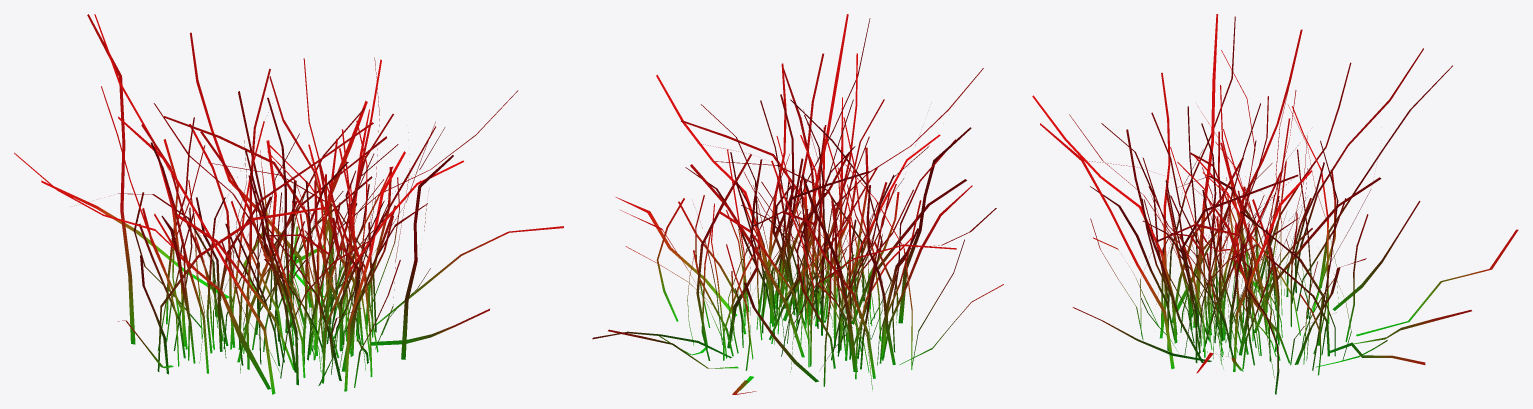
The model's file is Tundra Grass_LOD2_Var29_wk2oaeyqx.fbx.
The picture shows the model from 3 angles, left to right: view 1: azimuth 30°, elevation 25°; view 2: azimuth 150°, elevation 25°; view 3: azimuth 270°, elevation 25°; orthographic projection. The views are drawn at different scales.
Visible parts, largest first — view 1: _1uzx_Var29_LOD2; view 2: _1uzx_Var29_LOD2; view 3: _1uzx_Var29_LOD2.
Boxes of the visible parts, x1,y1,x2,y2 form: _1uzx_Var29_LOD2: [14, 14, 563, 394]; _1uzx_Var29_LOD2: [592, 14, 1003, 394]; _1uzx_Var29_LOD2: [1032, 14, 1518, 394].
Size of the model in its own units: 32.99 by 18.85 by 32.07.
